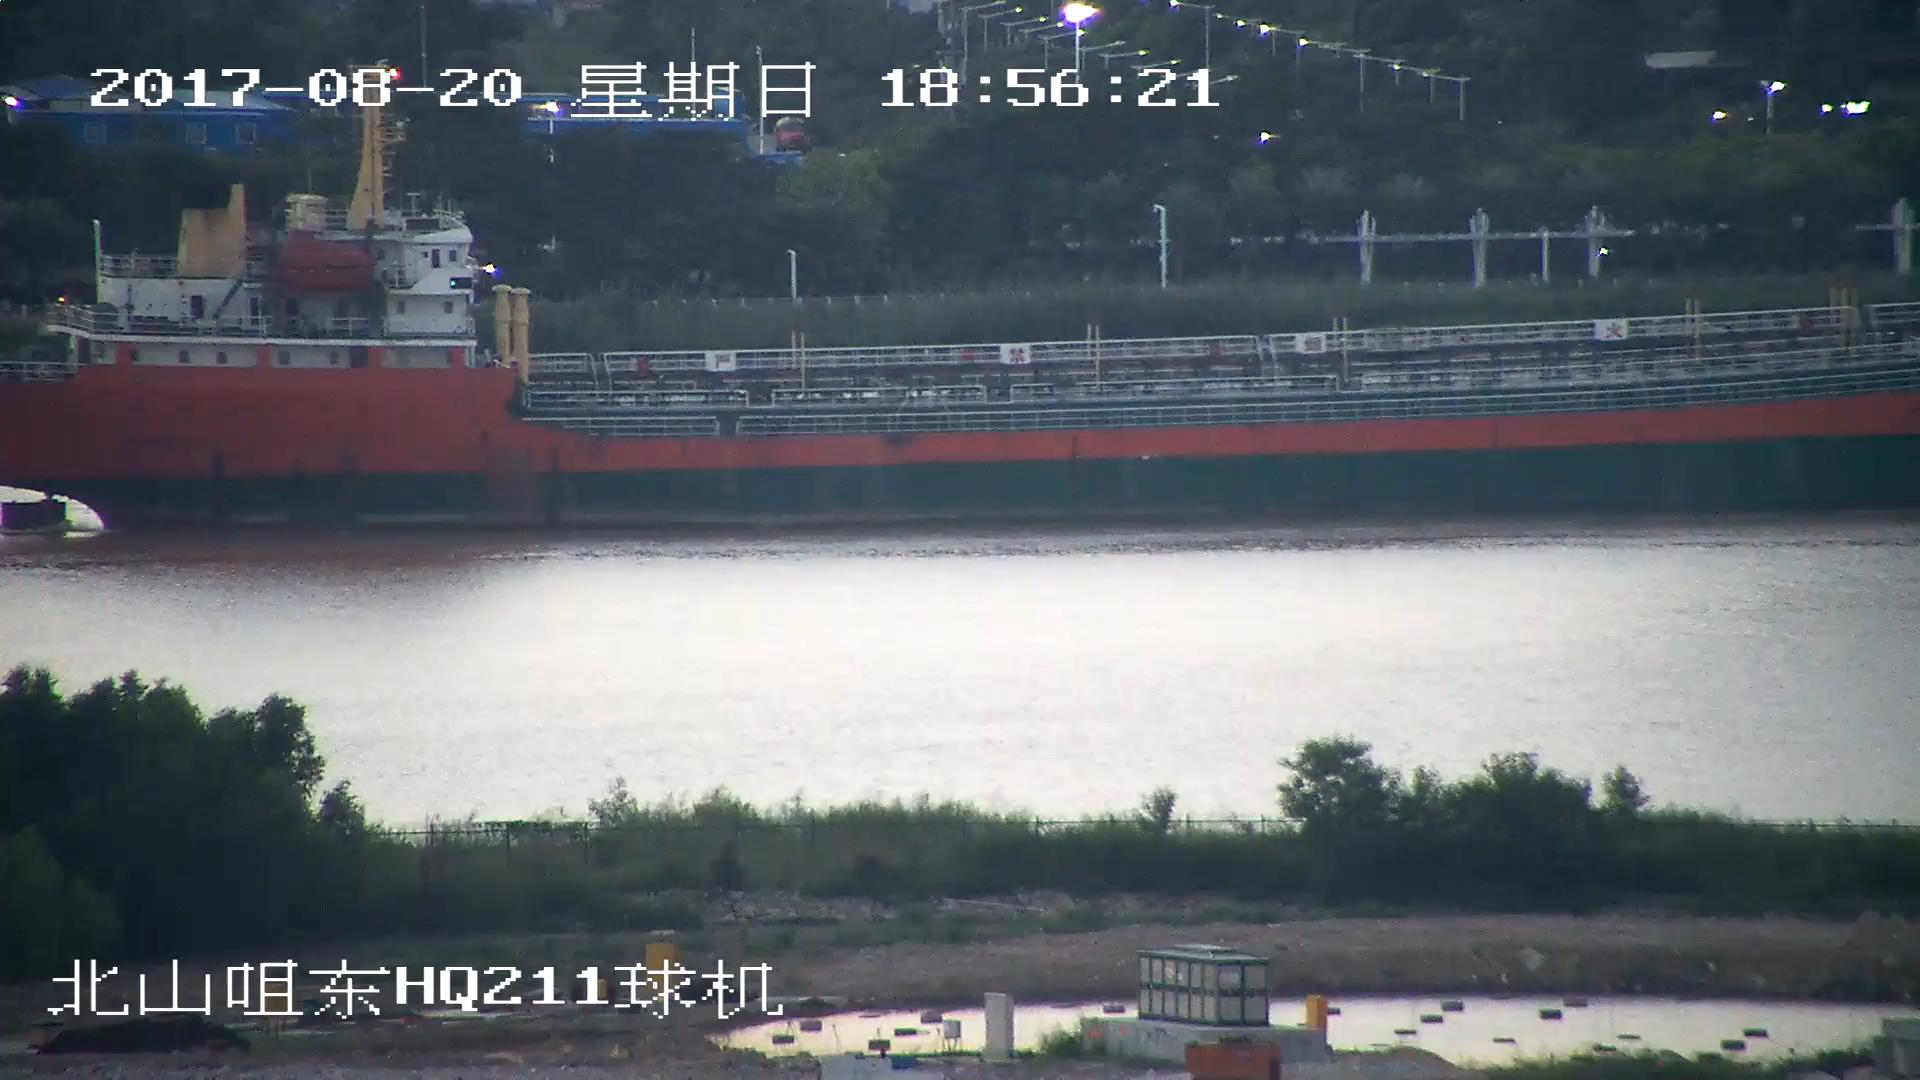general cargo ship: (1, 112, 1920, 520)
